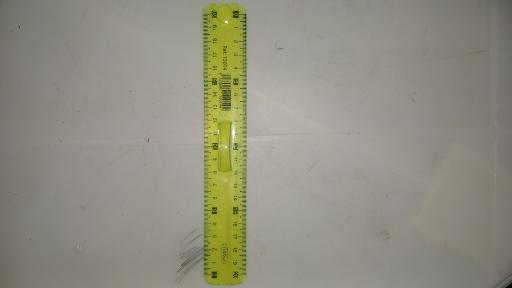Ruler: (203, 4, 247, 284)
